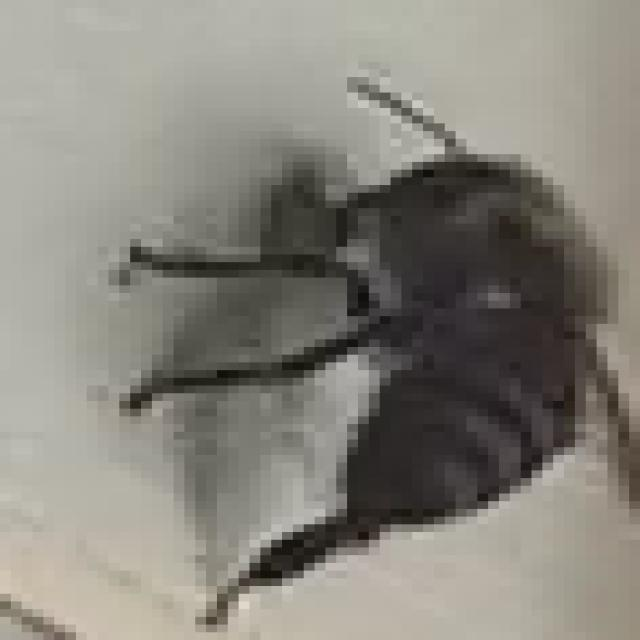honeybee: (98, 70, 587, 578)
